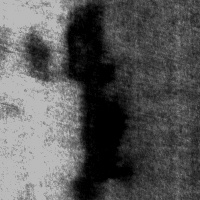patches: (75, 91, 131, 187), (66, 2, 115, 84), (23, 29, 55, 79)
